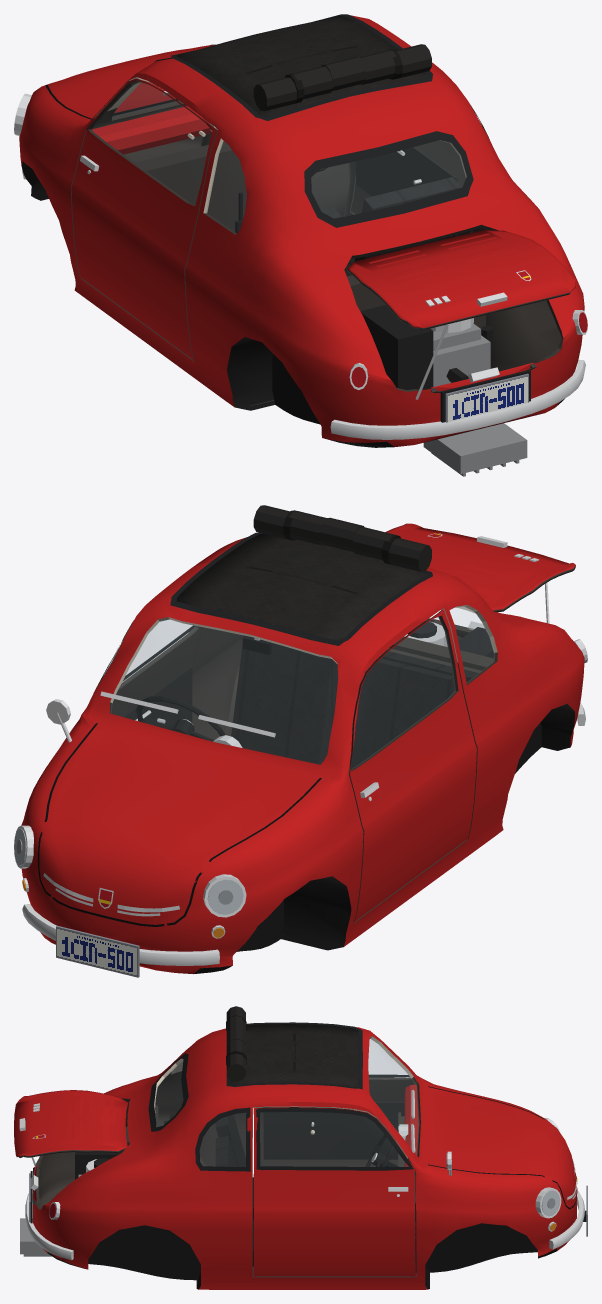
File: abarth595_classic.glb
The picture shows the model from 3 angles, top to bottom: view 1: azimuth 30°, elevation 25°; view 2: azimuth 150°, elevation 25°; view 3: azimuth 270°, elevation 25°; orthographic projection. The views are drawn at different scales.
Parts seen in each view (by area): view 1: Body, Door_L, Interior, Glass, Roof_Closed, Door_L_Glass, Roof_Open, Door_R; view 2: Body, Glass, Interior, Door_L, Roof_Closed, Door_L_Glass, Roof_Open, Door_R, Lights_Head, SteeringWheel; view 3: Body, Door_R, Door_L, Roof_Closed, Door_R_Glass, Glass, Interior, Roof_Open, SteeringWheel.
Part boxes in pixels (box(x1,y1,x2,y2)): Body: box(14, 14, 587, 476); Door_L: box(71, 78, 218, 360); Interior: box(92, 106, 485, 335); Glass: box(148, 82, 465, 233); Roof_Closed: box(176, 16, 427, 116); Door_L_Glass: box(91, 82, 211, 204); Roof_Open: box(253, 44, 431, 110); Door_R: box(350, 140, 472, 236); Body: box(14, 523, 587, 977); Glass: box(111, 606, 494, 763); Interior: box(179, 635, 493, 769); Door_L: box(349, 609, 476, 922); Roof_Closed: box(176, 533, 427, 640); Door_L_Glass: box(351, 617, 455, 768); Roof_Open: box(253, 505, 431, 571); Door_R: box(90, 620, 202, 726); Lights_Head: box(14, 828, 243, 914); SteeringWheel: box(136, 696, 225, 741); Body: box(14, 1022, 587, 1289); Door_R: box(253, 1107, 415, 1276); Door_L: box(253, 1074, 414, 1176); Roof_Closed: box(231, 1024, 358, 1086); Door_R_Glass: box(260, 1112, 408, 1166); Glass: box(155, 1039, 419, 1166); Interior: box(155, 1084, 418, 1275); Roof_Open: box(226, 1006, 246, 1081); SteeringWheel: box(365, 1126, 398, 1166).
Size of the model in its own units: 1.32 by 1.29 by 3.13.
28 materials, 5 textured.
